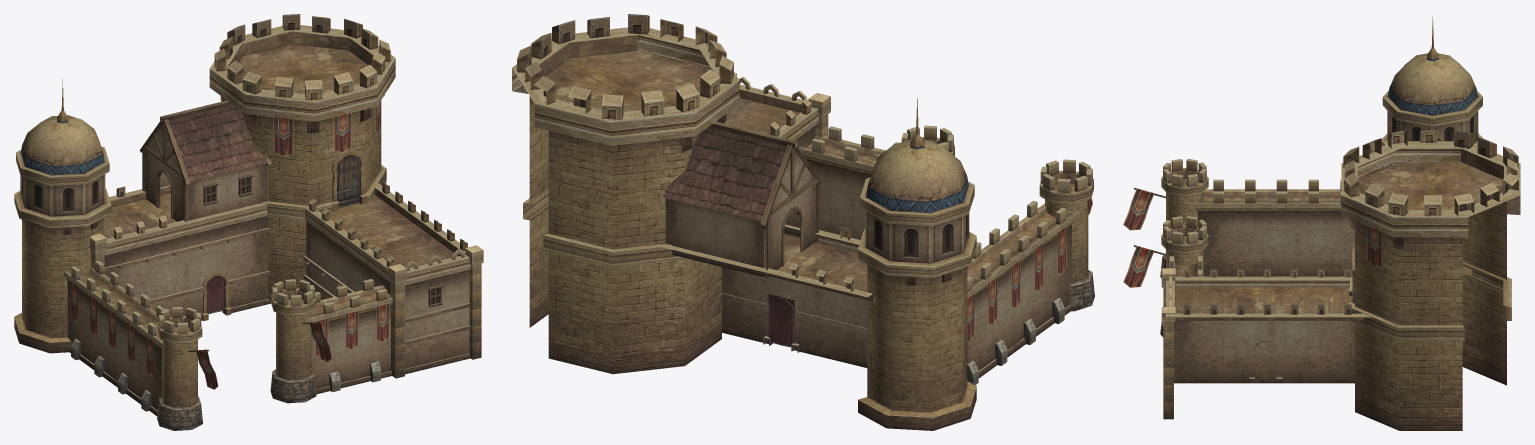
Rendered from SC_tamalagebi_11.FBX.
3 views of the same model, side by side, from view 1: azimuth 30°, elevation 25°; view 2: azimuth 150°, elevation 25°; view 3: azimuth 270°, elevation 25° (orthographic). The views are drawn at different scales.
Parts seen in each view (by area): view 1: SC_tamalagebi_11; view 2: SC_tamalagebi_11; view 3: SC_tamalagebi_11.
Part boxes in pixels (x1=…): SC_tamalagebi_11: x1=14, y1=14, x2=483, y2=430; SC_tamalagebi_11: x1=512, y1=14, x2=1094, y2=430; SC_tamalagebi_11: x1=1123, y1=17, x2=1520, y2=430.
Bounding box in the file's own units: 1820 × 1241 × 1692.
